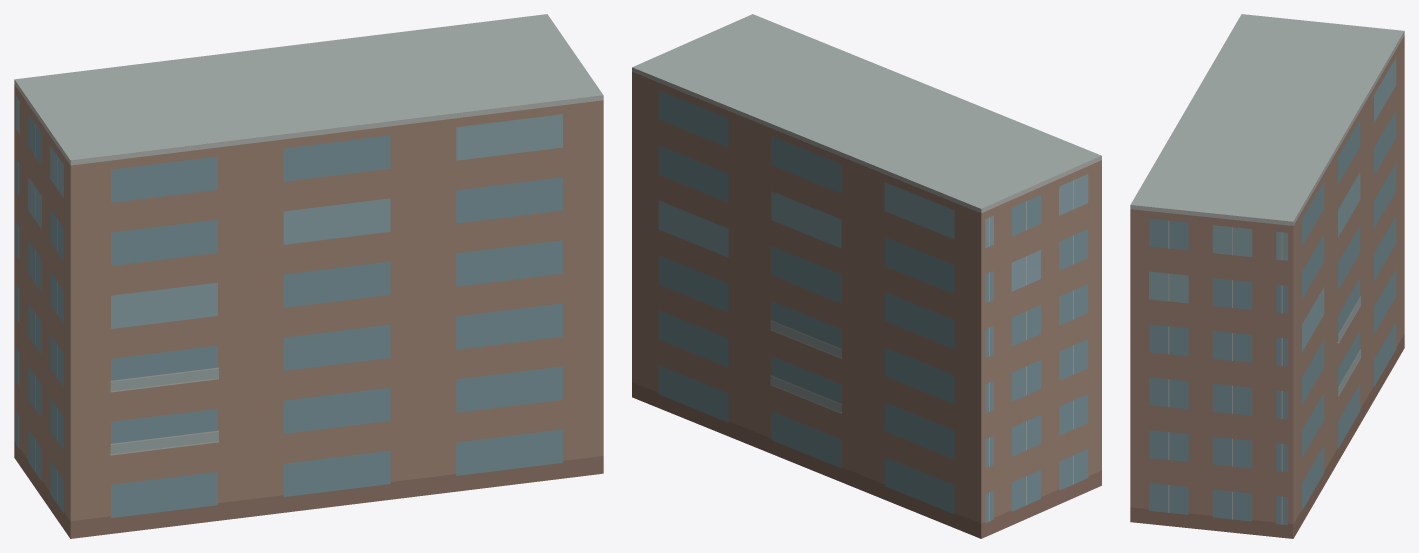
The model's file is survey-upis-32878425.glb.
3 renders of one model, left to right at view 1: azimuth 30°, elevation 25°; view 2: azimuth 150°, elevation 25°; view 3: azimuth 270°, elevation 25°, orthographic. The views are drawn at different scales.
Visible parts, largest first — view 1: survey-upis-32878425.tmp; view 2: survey-upis-32878425.tmp; view 3: survey-upis-32878425.tmp.
Boxes of the visible parts, box(x1,y1,x2,y2) form: survey-upis-32878425.tmp: box(14, 14, 603, 538); survey-upis-32878425.tmp: box(632, 14, 1101, 538); survey-upis-32878425.tmp: box(1130, 14, 1404, 538).
Size of the model in its own units: 25.71 by 18.3 by 14.35.
